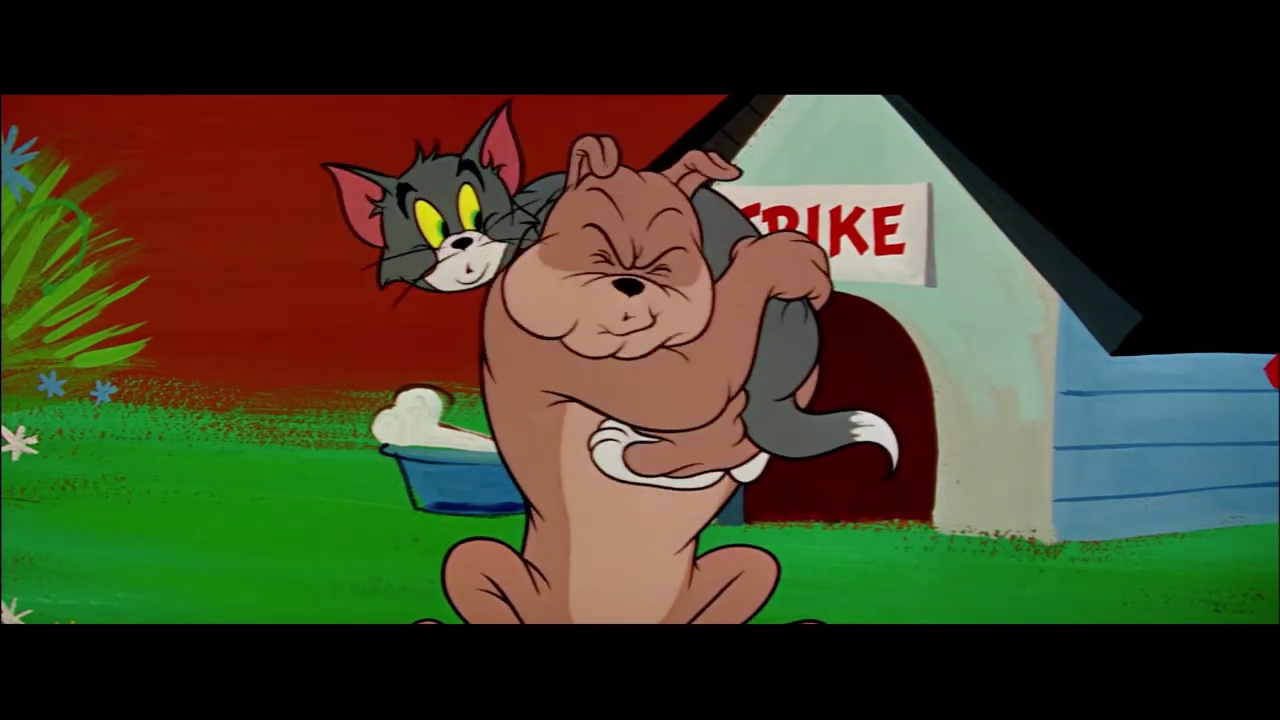spike: (502, 130, 752, 365)
tom: (321, 95, 536, 298)
